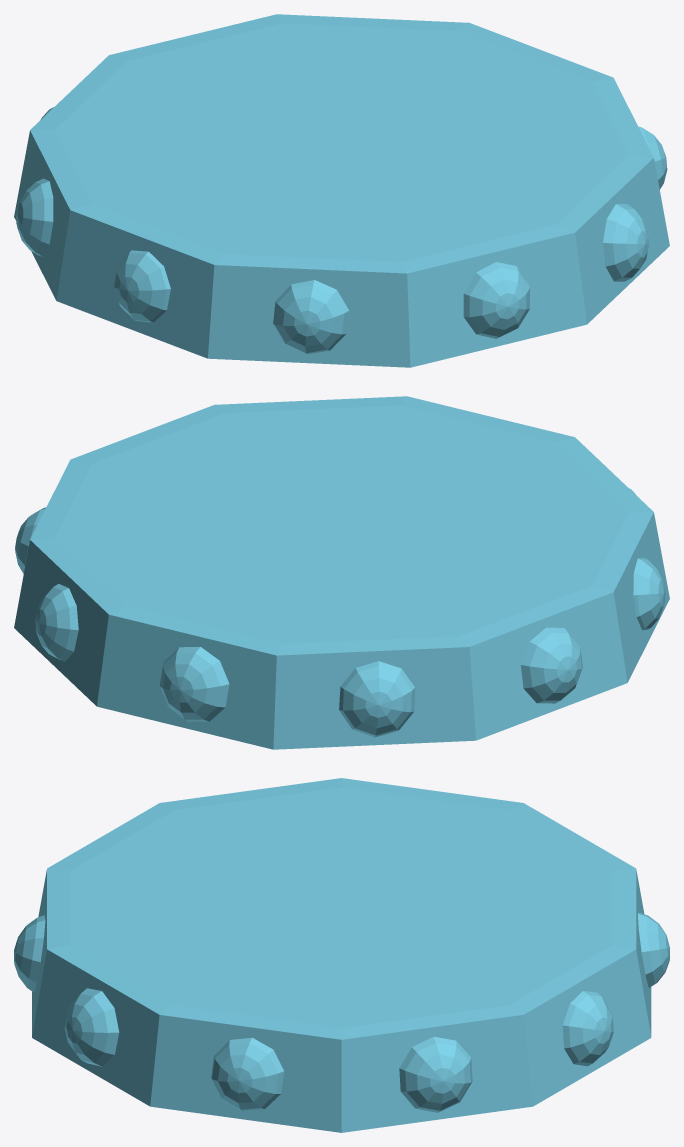
3 renders of one model, top to bottom at view 1: azimuth 30°, elevation 25°; view 2: azimuth 150°, elevation 25°; view 3: azimuth 270°, elevation 25°, orthographic.
Visible parts, largest first — view 1: polySurface21; view 2: polySurface21; view 3: polySurface21.
Part boxes in pixels (x1,y1,x2,y2): polySurface21: (14,14,669,367); polySurface21: (14,396,669,749); polySurface21: (14,778,669,1132).
Size of the model in its own units: 12.54 by 1.86 by 12.63.
